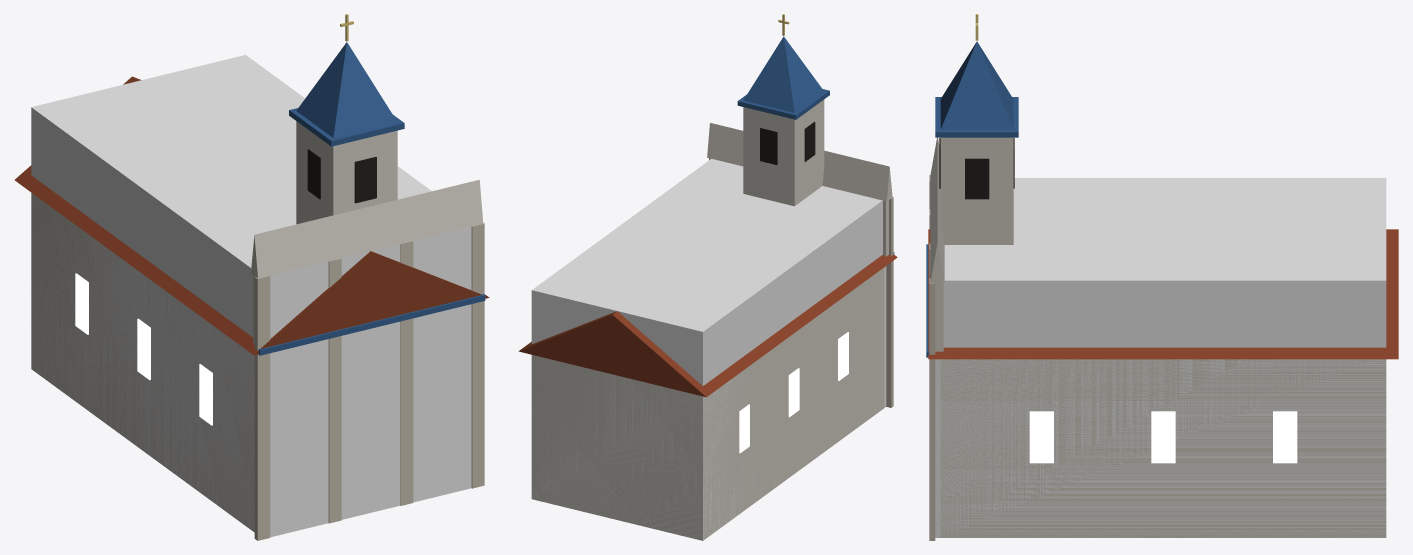
Rendered from iglesia.glb.
The picture shows the model from 3 angles, left to right: view 1: azimuth 30°, elevation 25°; view 2: azimuth 150°, elevation 25°; view 3: azimuth 270°, elevation 25°; orthographic projection. The views are drawn at different scales.
Visible parts, largest first — view 1: COL_0, iglesia_Malla; view 2: iglesia_Malla, COL_0; view 3: COL_0, iglesia_Malla.
Boxes of the visible parts, x1,y1,x2,y2 form: COL_0: (31,55,471,537); iglesia_Malla: (14,14,489,540); iglesia_Malla: (518,14,897,540); COL_0: (531,159,886,540); COL_0: (935,178,1386,537); iglesia_Malla: (926,14,1398,540).
Bounding box in the file's own units: 13.2 × 25.7 × 23.3.
